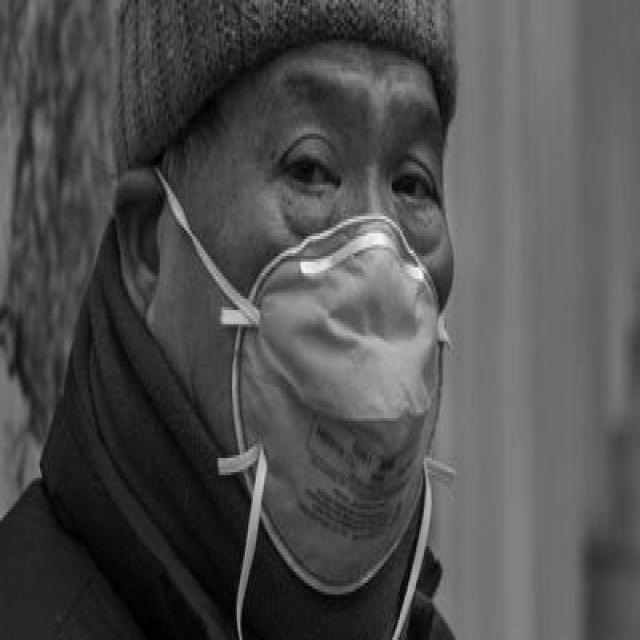face_mask: (170, 51, 452, 521)
